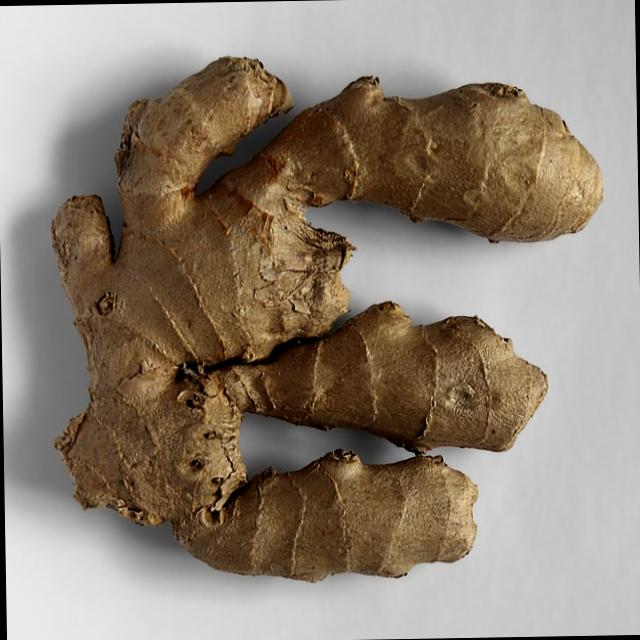ginger-root: (33, 24, 627, 596)
